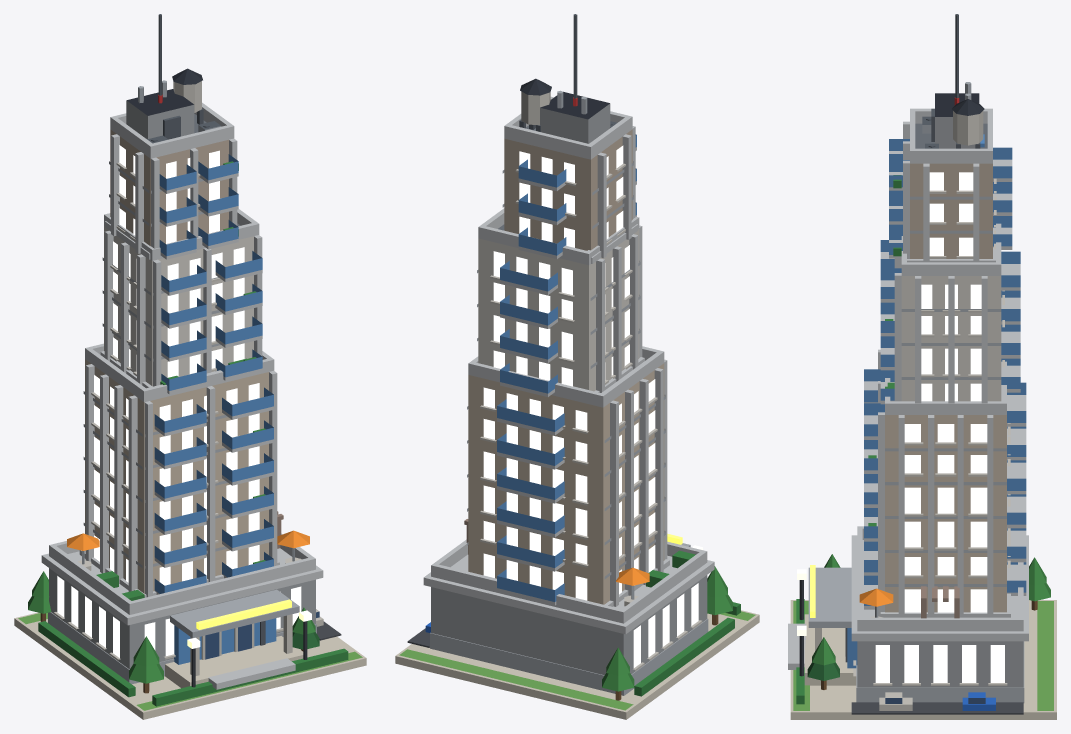
The picture shows the model from 3 angles, left to right: view 1: azimuth 30°, elevation 25°; view 2: azimuth 150°, elevation 25°; view 3: azimuth 270°, elevation 25°; orthographic projection. The views are drawn at different scales.
Parts seen in each view (by area): view 1: b10_v2; view 2: b10_v2; view 3: b10_v2.
Boxes of the visible parts, x1=… form: b10_v2: x1=14, y1=14, x2=366, y2=719; b10_v2: x1=395, y1=14, x2=759, y2=719; b10_v2: x1=788, y1=14, x2=1056, y2=719.
Size of the model in its own units: 0.9775 by 2.56 by 0.969.
